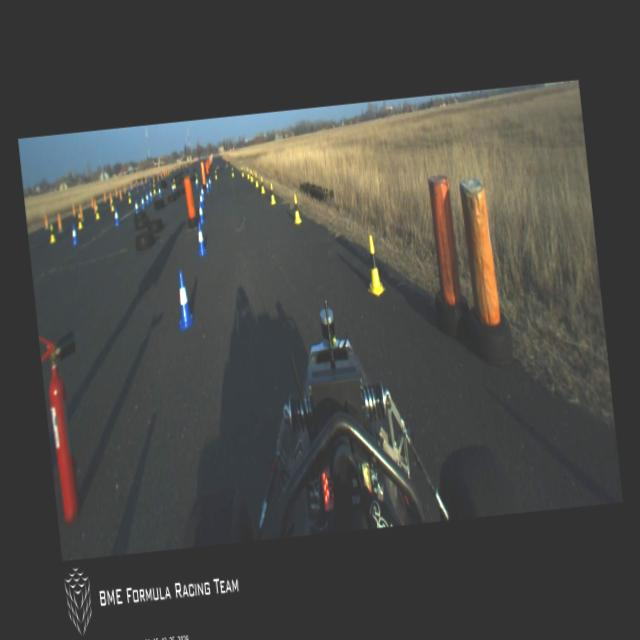blue_cone: (174, 270, 194, 330), (194, 220, 207, 256), (196, 201, 205, 226), (70, 223, 78, 246), (112, 207, 119, 226), (198, 190, 204, 209), (133, 197, 139, 214), (204, 178, 210, 192), (144, 192, 150, 205), (148, 188, 153, 202), (200, 183, 204, 200), (140, 194, 144, 210), (207, 176, 212, 188), (170, 180, 174, 194), (157, 185, 161, 198), (194, 177, 198, 189)
yellow_cone: (362, 232, 386, 298), (290, 192, 302, 224), (267, 181, 276, 206), (48, 222, 56, 244), (259, 174, 265, 193), (76, 212, 83, 228), (94, 203, 100, 220), (248, 168, 254, 182), (126, 192, 132, 204), (254, 172, 258, 188), (110, 198, 114, 212), (230, 165, 234, 178), (214, 169, 218, 180), (152, 183, 156, 194), (172, 177, 175, 190), (240, 165, 243, 177), (195, 173, 198, 182), (246, 167, 248, 180)
